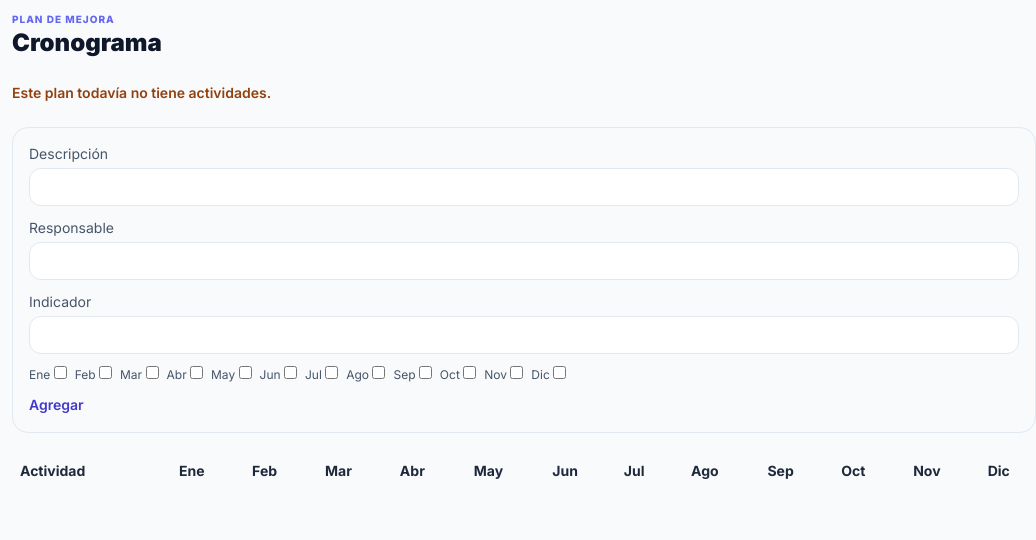
PaginaPlanMejoraComponent › should mostrar el mensaje si el alta responde 422 y conservar el formulario
In the field named "alta-descripcion": (524, 187) x1=29 y1=168 x2=1019 y2=206, type "Borrador"
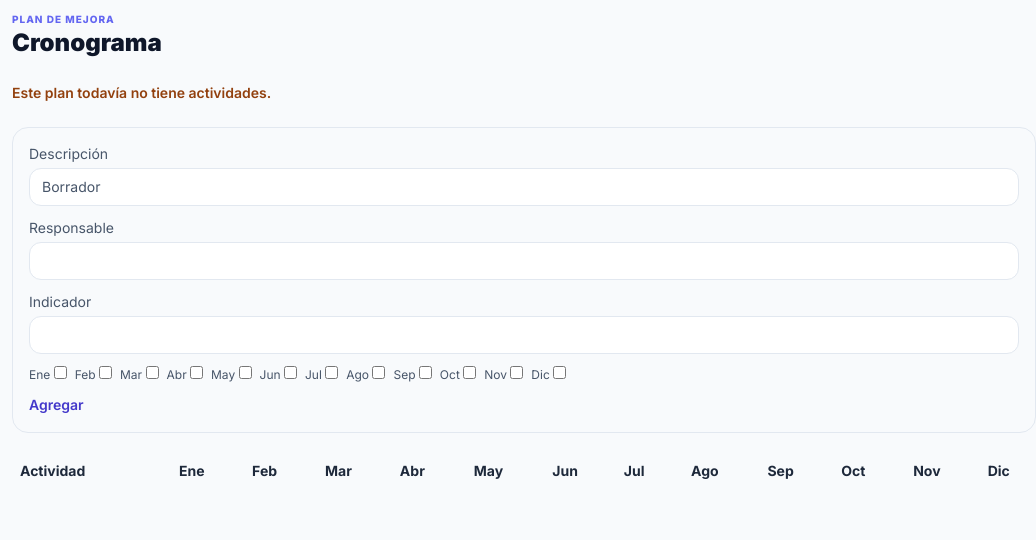
Click the button "Agregar": (56, 405) x1=29 y1=395 x2=84 y2=415
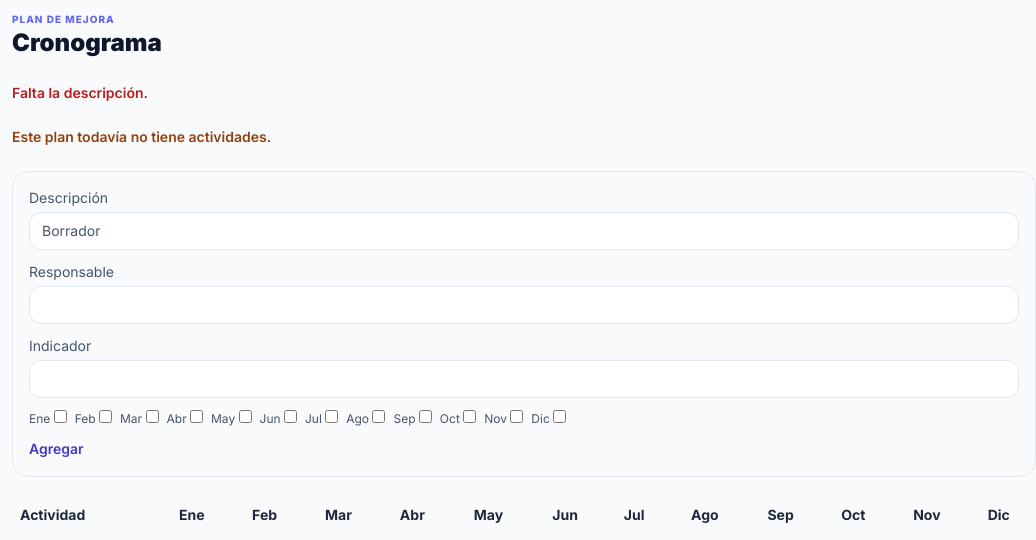
Expected: the text "Falta la descripción." is shown, x1=12 y1=84 x2=148 y2=101
